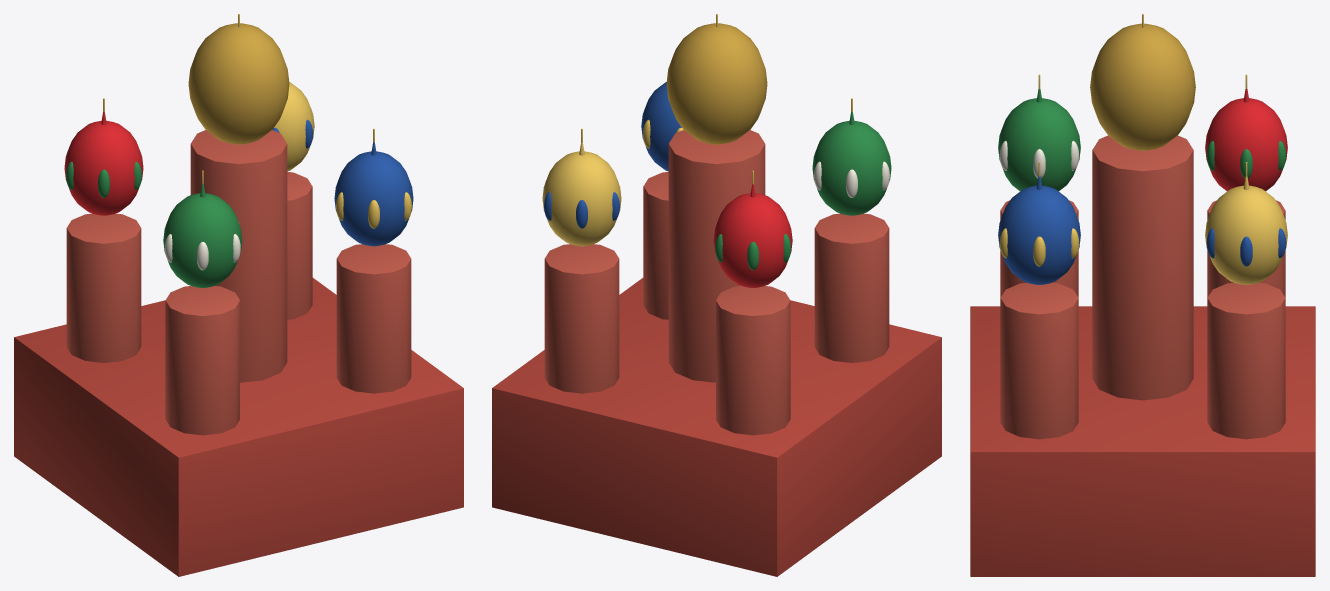
The model's file is marco_saobasilio.glb.
3 renders of one model, left to right at view 1: azimuth 30°, elevation 25°; view 2: azimuth 150°, elevation 25°; view 3: azimuth 270°, elevation 25°, orthographic. The views are drawn at different scales.
Parts seen in each view (by area): view 1: marco_saobasilio; view 2: marco_saobasilio; view 3: marco_saobasilio.
Part boxes in pixels (left/top/right/bottom): marco_saobasilio: left=14, top=14, right=463, bottom=576; marco_saobasilio: left=492, top=14, right=941, bottom=576; marco_saobasilio: left=970, top=14, right=1315, bottom=576.
Size of the model in its own units: 30 by 47 by 30.
